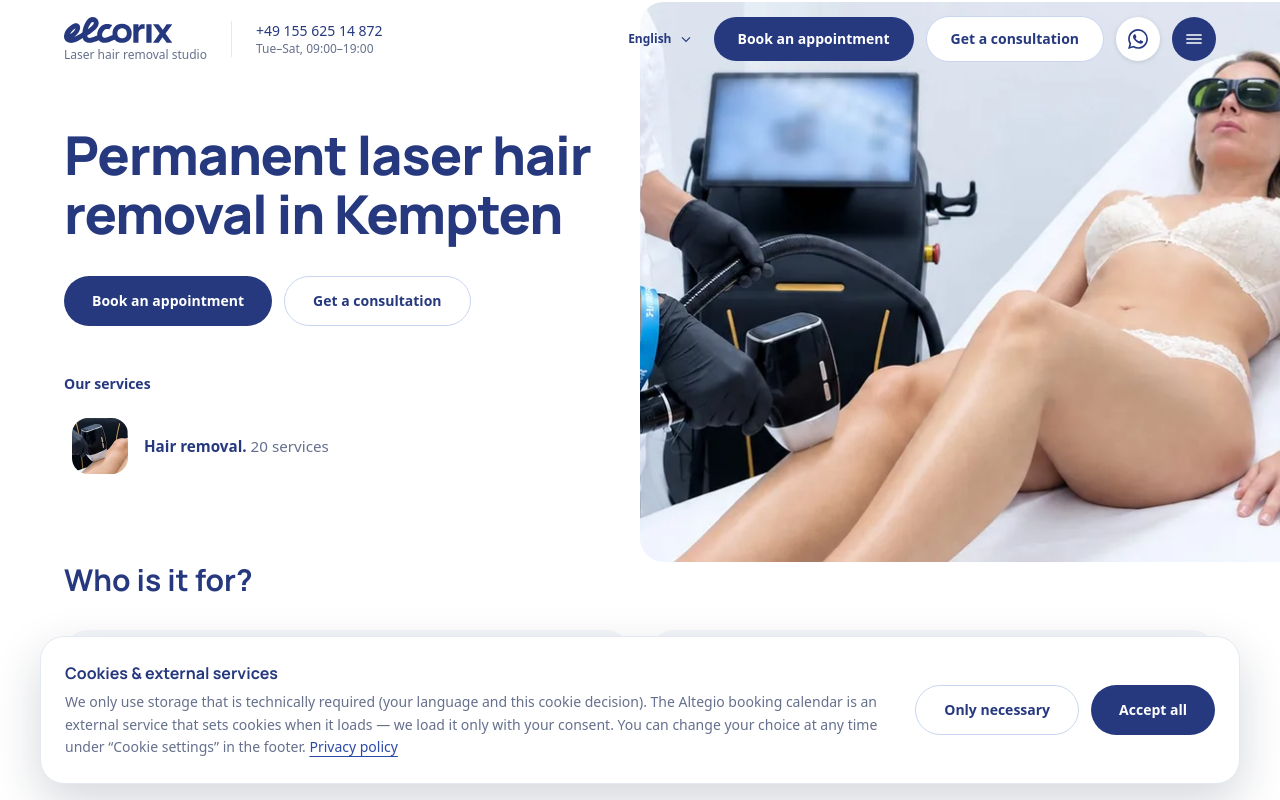
Scenario: cookie consent banner › persists 'accept all' and closes
Click the button "Accept all" at [1153, 710], box [1091,685,1215,735]
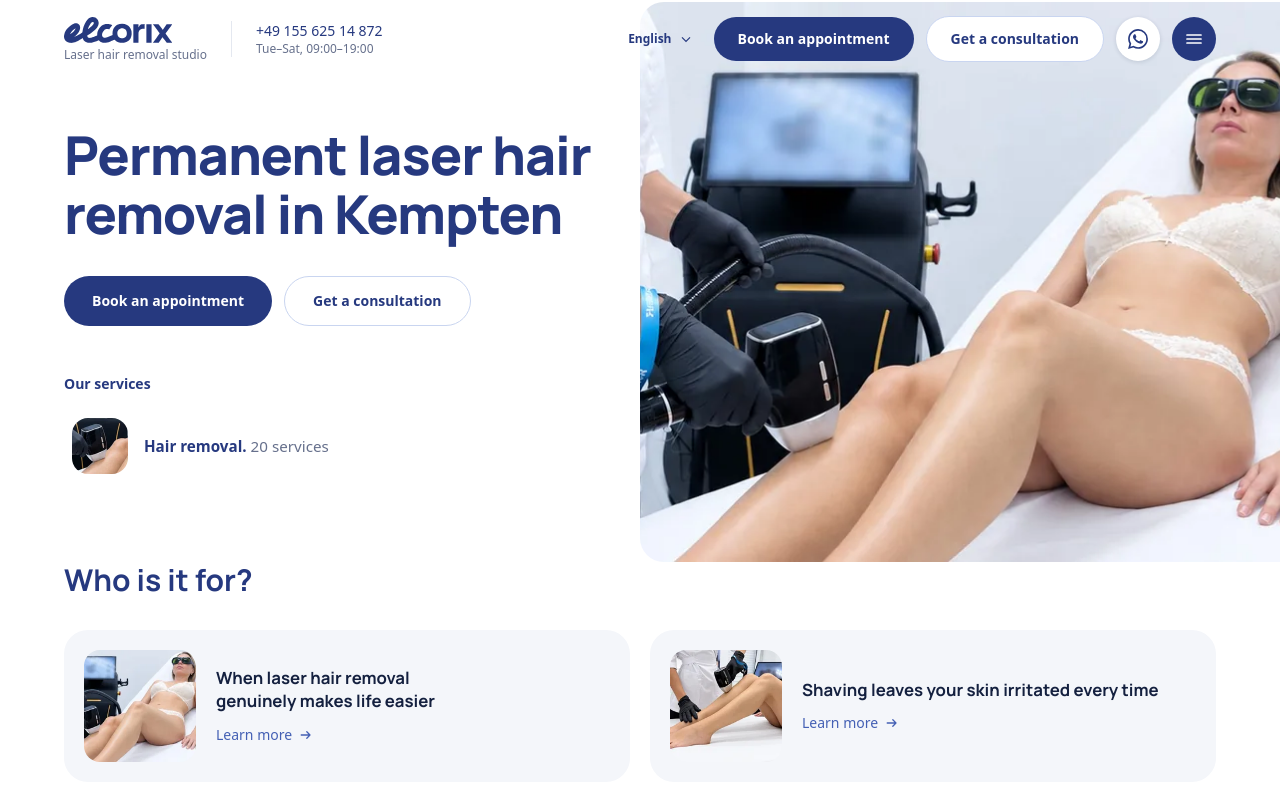
Check: the dialog is gone
